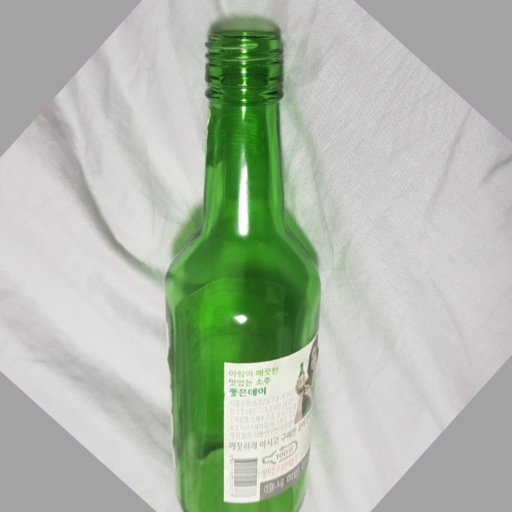Glass_0: (158, 30, 321, 512)
